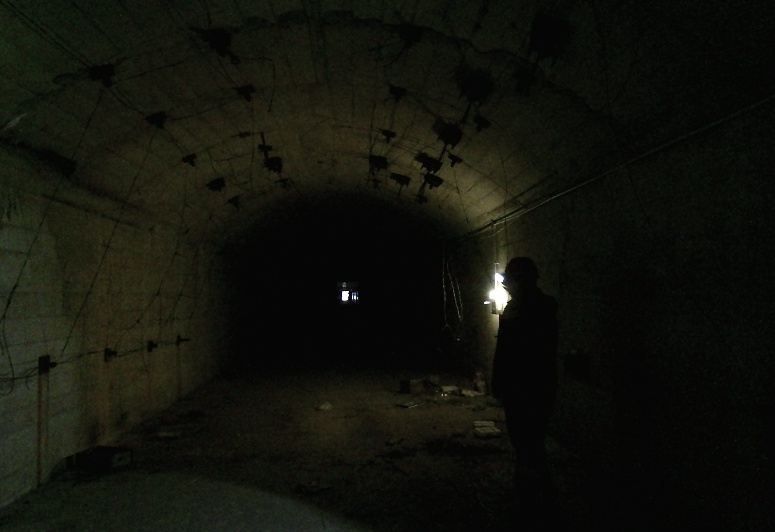person: (490, 257, 580, 532)
